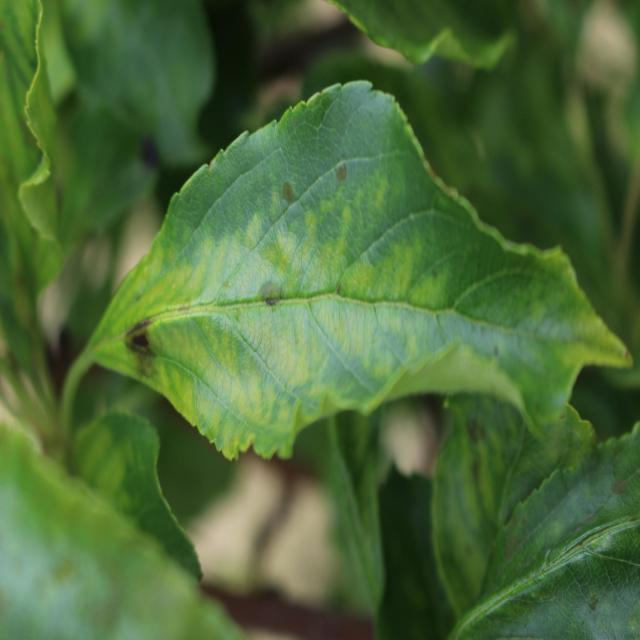scab: (102, 310, 196, 404), (462, 401, 499, 504), (608, 447, 637, 536), (246, 273, 296, 323), (573, 578, 614, 634), (262, 164, 303, 216), (320, 152, 361, 191)
